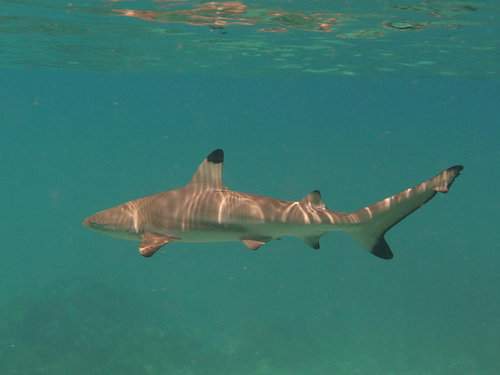shark: (71, 136, 486, 277)
